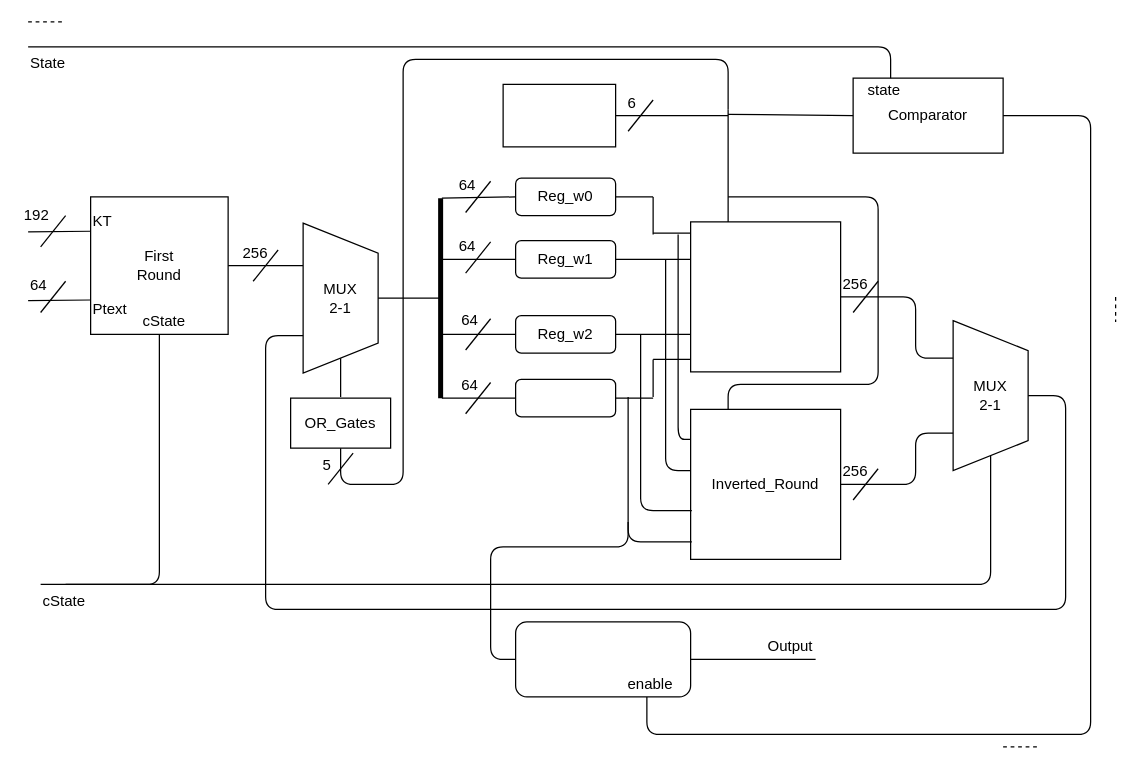
This 1139x770 diagram has some shape labels left out. The shapes that lost their labels are listed below. From the top down, each one's box as (x1, y1, x2, y2) in pixels, then its label:
(502, 83, 616, 147): Counter
(689, 221, 841, 372): Round
(514, 378, 616, 417): Reg_text
(514, 621, 691, 697): Tri_State Control&Buffer
